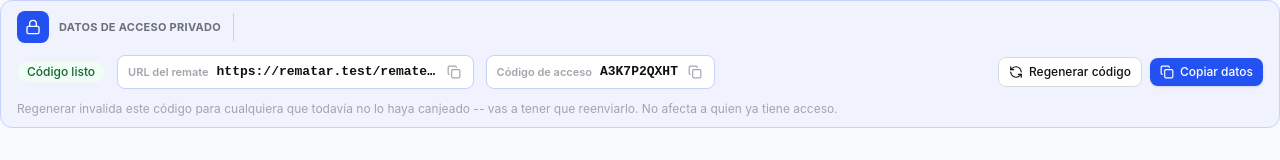
Test: PrivateAccessPanel › "Regenerar código" no pide confirmación y reemplaza el código mostrado
This screenshot has width=1280, height=160.
expect the text "A3K7P2QXHT" is shown: met, box [600,62,678,82]
Click the button "Regenerar código" at x=1070, y=72, box [998,57,1142,87]
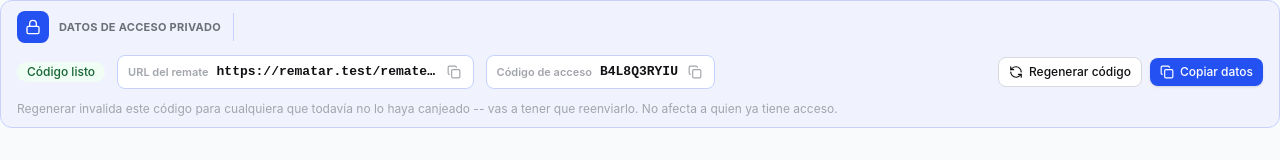
expect the text "B4L8Q3RYIU" is shown: met, box [600,62,678,82]
